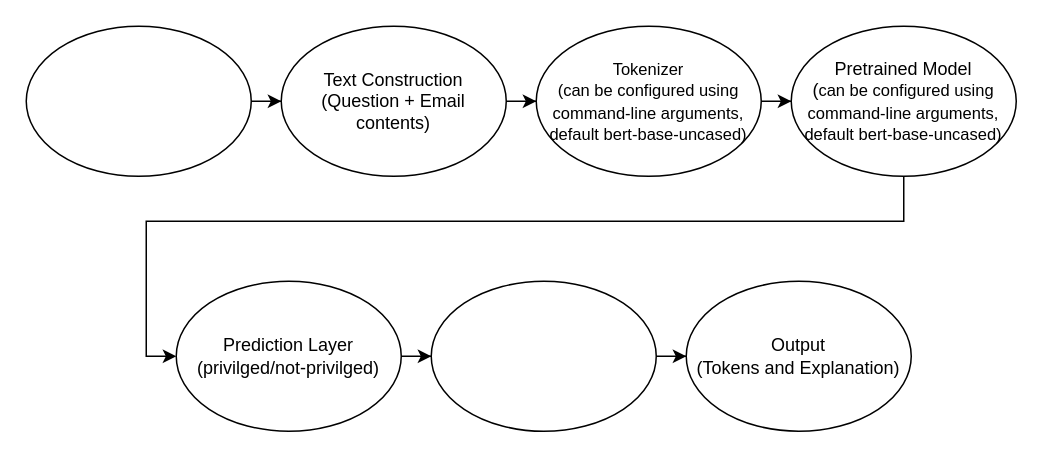
Image size: 1043x458. Some labels were removed from this diagram. The box of each missing label's shape, as (x1, y1, x2, y2) in pixels:
Email Information (from, to, subject, email body): (25, 25, 251, 176)
SHAP Explainer (Generates explanations for why an email is privielged or not): (430, 280, 656, 431)
